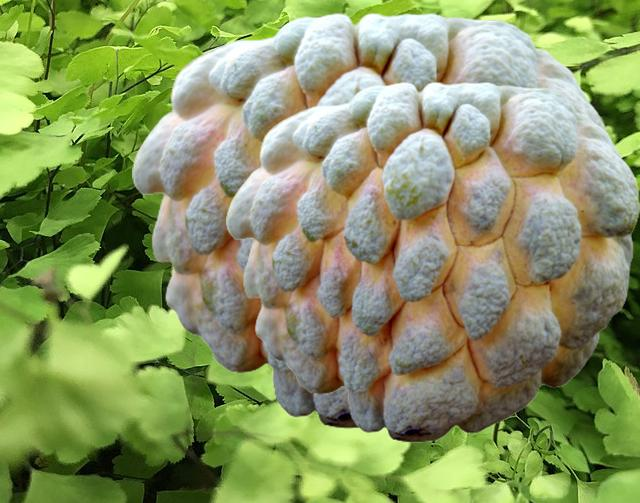atis: (132, 12, 607, 427), (226, 81, 638, 441)
